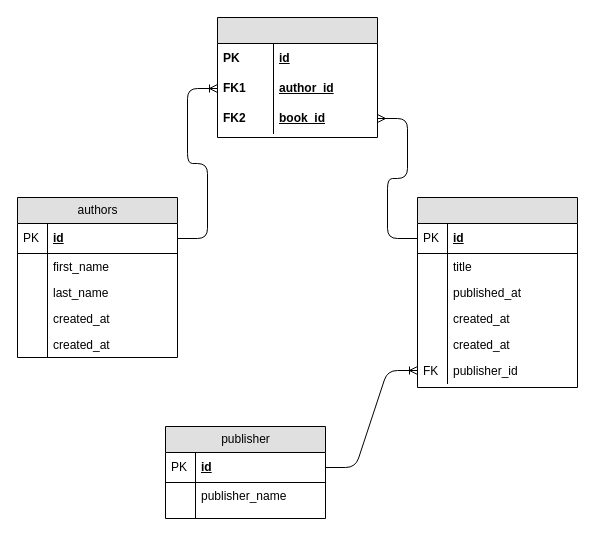
This 595x536 diagram has some shape labels left out. Here are the shapes that lost their labels. From the top down, the box of each, then its label:
(216, 16, 378, 138): authors_books
(416, 196, 578, 388): books
